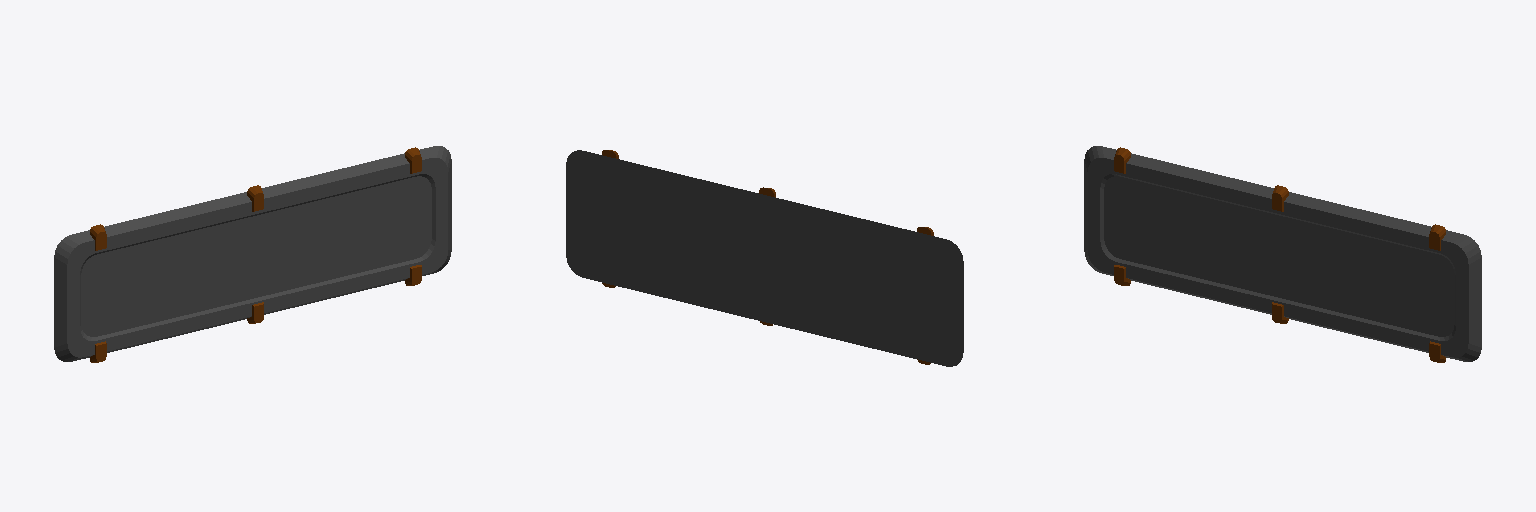
Rendered from Details_Plate_Long.obj.
The picture shows the model from 3 angles: view 1: azimuth 30°, elevation 25°; view 2: azimuth 150°, elevation 25°; view 3: azimuth 330°, elevation 25°; orthographic projection.
Parts seen in each view (by area): view 1: Details_Plate_Long_Cube.035; view 2: Details_Plate_Long_Cube.035; view 3: Details_Plate_Long_Cube.035.
Part boxes in pixels (x1,y1,x2,y2): Details_Plate_Long_Cube.035: (54, 146, 451, 362); Details_Plate_Long_Cube.035: (566, 150, 963, 366); Details_Plate_Long_Cube.035: (1084, 146, 1481, 362).
Size of the model in its own units: 1.05 by 0.3482 by 0.0287.